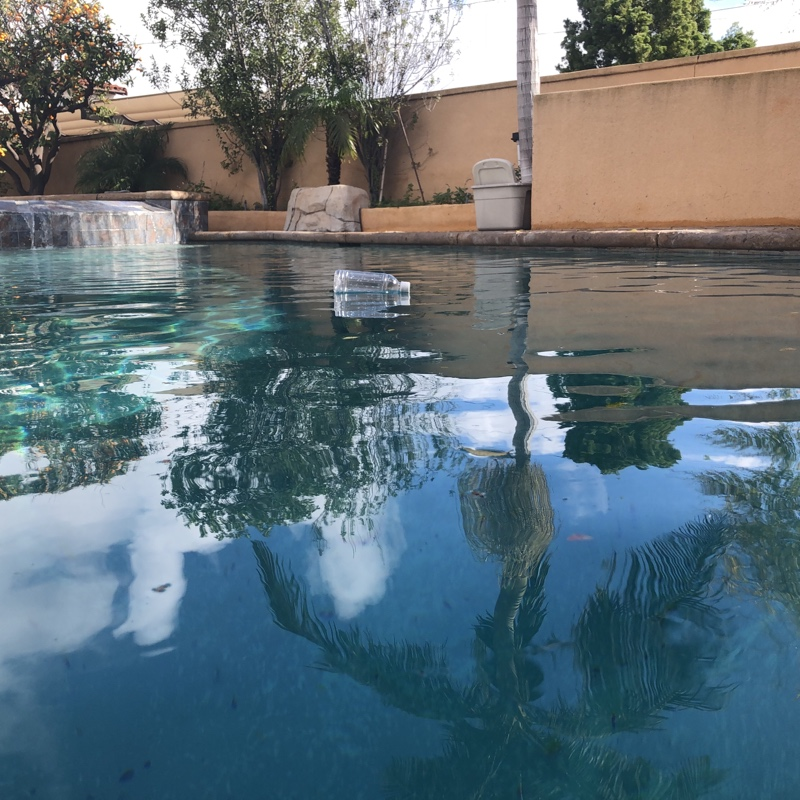Plastic Bottle: (330, 265, 413, 300)
